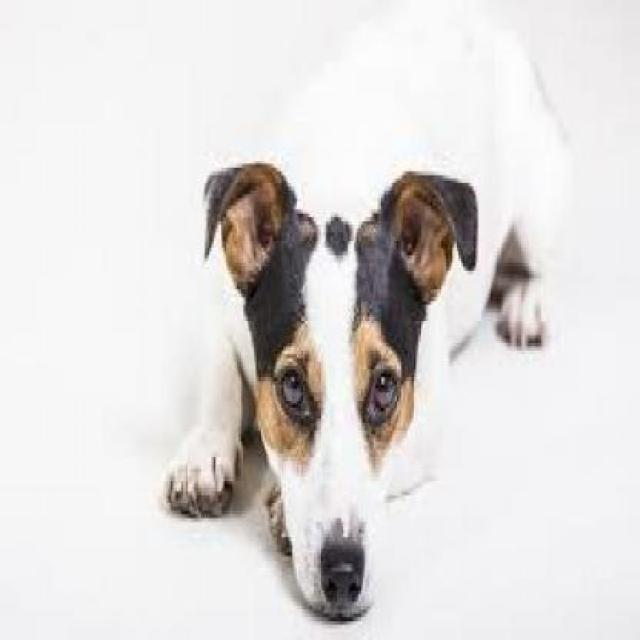animals: (95, 8, 636, 607)
